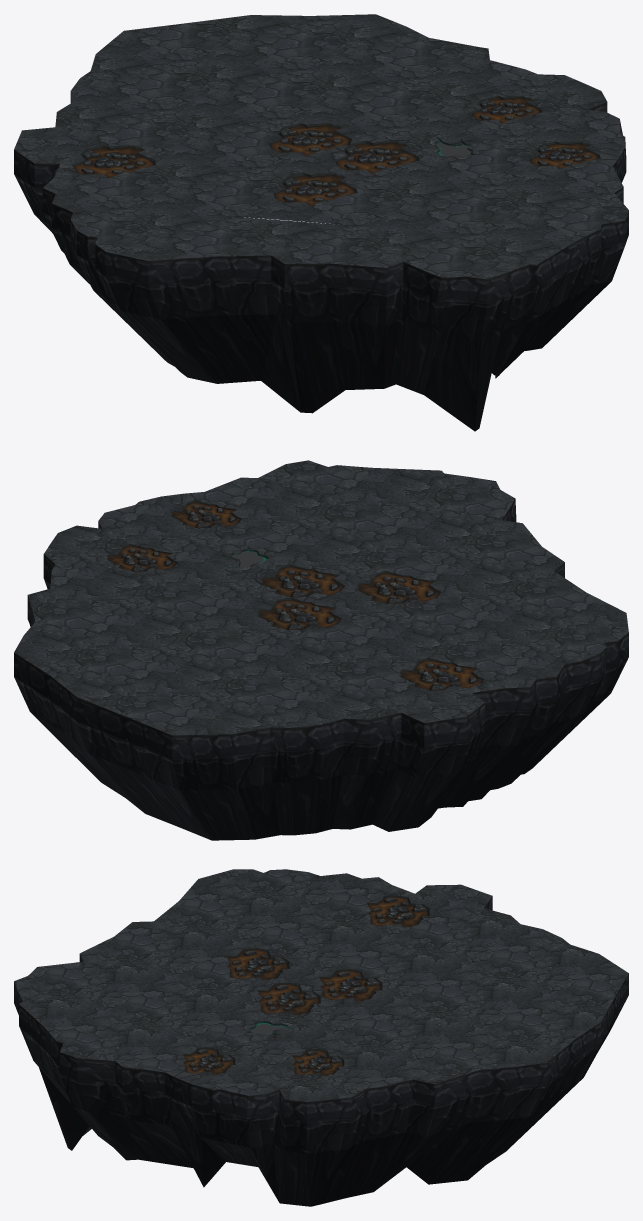
The model's file is Mine_dizuo01.FBX.
3 views of the same model, one above another, from view 1: azimuth 30°, elevation 25°; view 2: azimuth 150°, elevation 25°; view 3: azimuth 270°, elevation 25° (orthographic). The views are drawn at different scales.
Parts seen in each view (by area): view 1: dizuo01; view 2: dizuo01; view 3: dizuo01.
Part boxes in pixels (x1,y1,x2,y2): dizuo01: (14, 14, 628, 431); dizuo01: (14, 460, 628, 840); dizuo01: (14, 869, 628, 1206).
Bounding box in the file's own units: 1303 × 423 × 1453.
